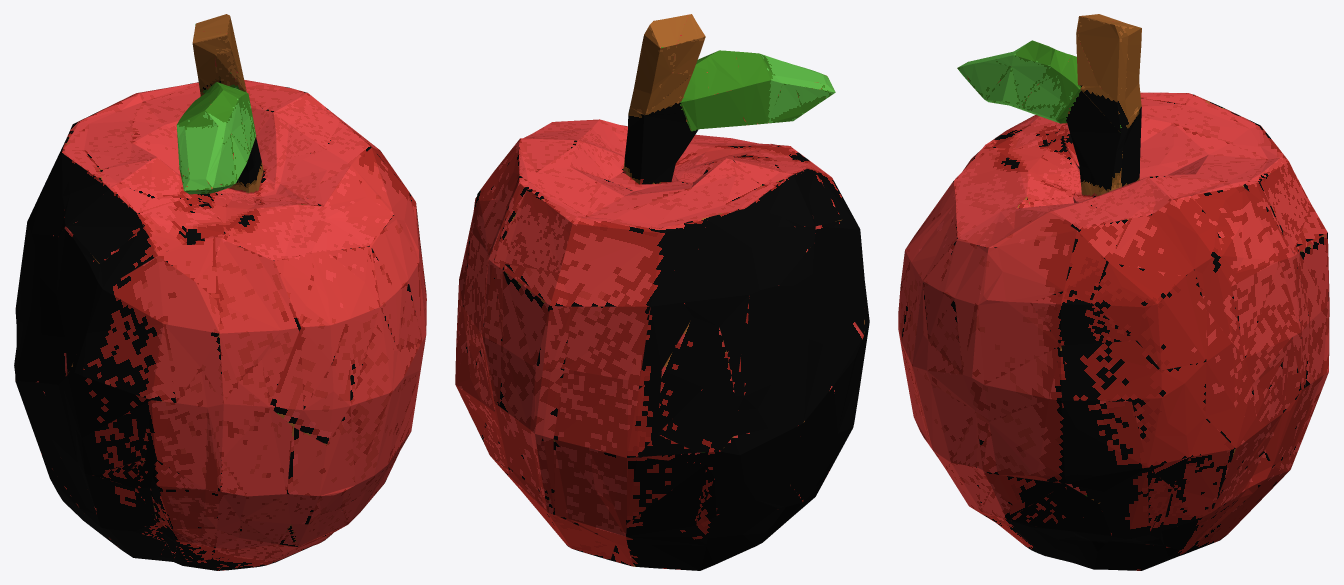
The picture shows the model from 3 angles, left to right: view 1: azimuth 30°, elevation 25°; view 2: azimuth 150°, elevation 25°; view 3: azimuth 270°, elevation 25°; orthographic projection. The views are drawn at different scales.
Parts seen in each view (by area): view 1: OBJ0b3; view 2: OBJ0b3; view 3: OBJ0b3.
Part boxes in pixels (x1,y1,x2,y2): OBJ0b3: [14, 14, 426, 570]; OBJ0b3: [455, 14, 869, 570]; OBJ0b3: [898, 14, 1329, 570].
Size of the model in its own units: 0.1816 by 0.2508 by 0.1914.
Materials: 1 (1 with a texture image).
